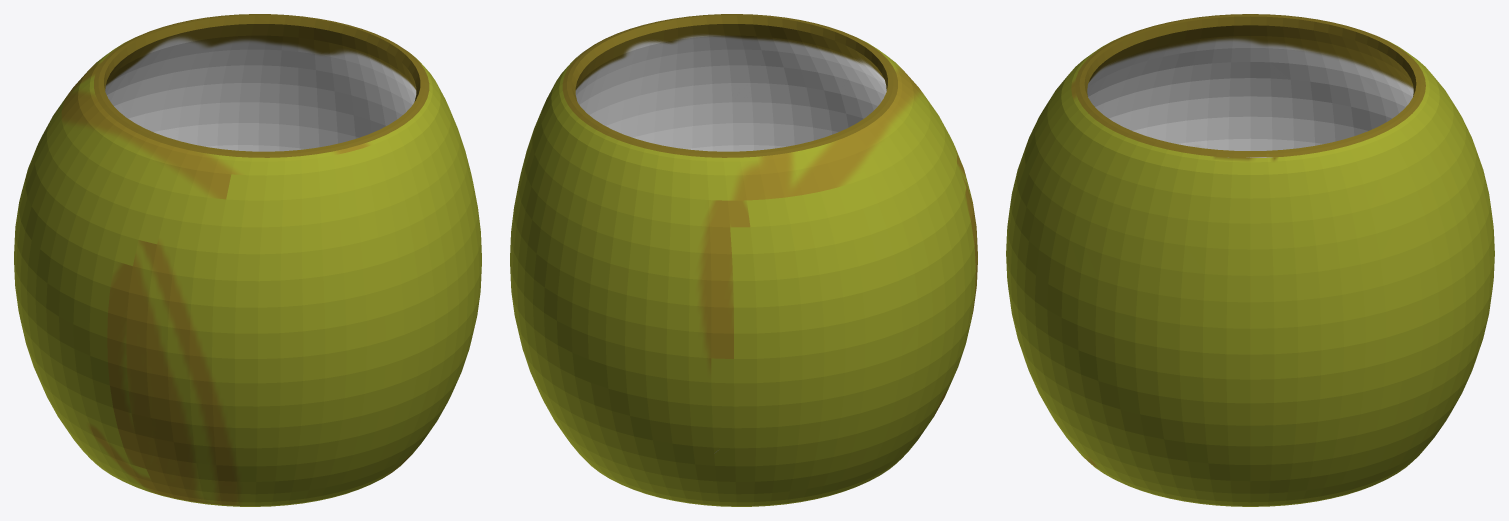
File: CocoAbierto.fbx
The picture shows the model from 3 angles, left to right: view 1: azimuth 30°, elevation 25°; view 2: azimuth 150°, elevation 25°; view 3: azimuth 270°, elevation 25°; orthographic projection. The views are drawn at different scales.
Parts seen in each view (by area): view 1: CocoAbierto; view 2: CocoAbierto; view 3: CocoAbierto.
Part boxes in pixels (bbox=[...]): CocoAbierto: bbox=[14, 14, 481, 506]; CocoAbierto: bbox=[510, 14, 977, 506]; CocoAbierto: bbox=[1006, 14, 1494, 506].
Bounding box in the file's own units: 0.2897 × 0.2425 × 0.2962.
